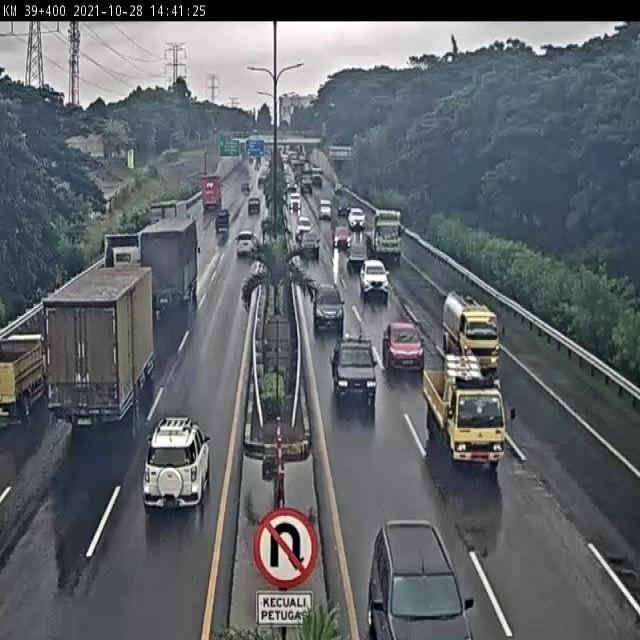big truck: (96, 231, 143, 289)
car: (142, 414, 210, 510), (329, 334, 377, 406), (383, 321, 425, 372), (312, 282, 344, 330), (359, 260, 390, 299), (235, 229, 256, 256), (347, 244, 367, 269)
mid truck: (41, 264, 155, 424), (140, 217, 200, 311), (148, 198, 188, 238)
small truck: (0, 333, 45, 416)
truck-m-: (421, 354, 510, 469), (441, 289, 501, 372)
